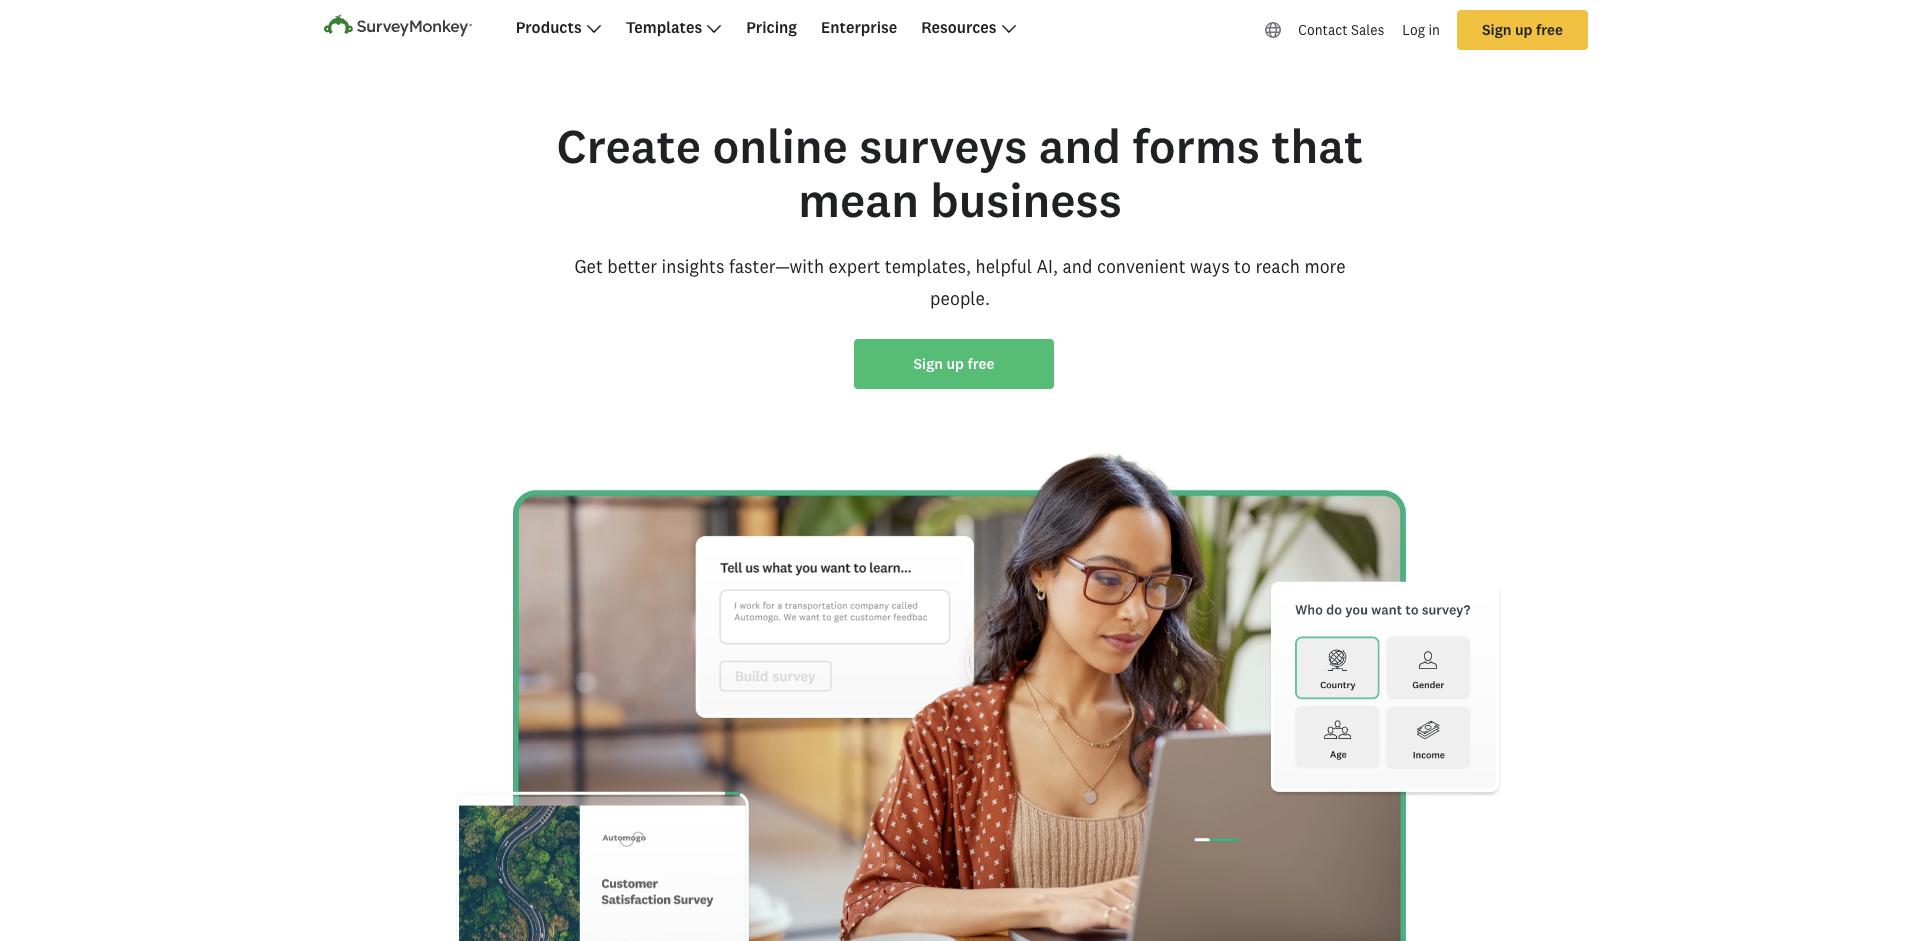button: (853, 339, 1054, 388), (1457, 10, 1588, 50), (809, 6, 909, 54), (1289, 10, 1393, 50), (735, 6, 809, 54), (1393, 10, 1449, 50)
link: (324, 31, 471, 50), (820, 18, 898, 37), (746, 18, 797, 37)
